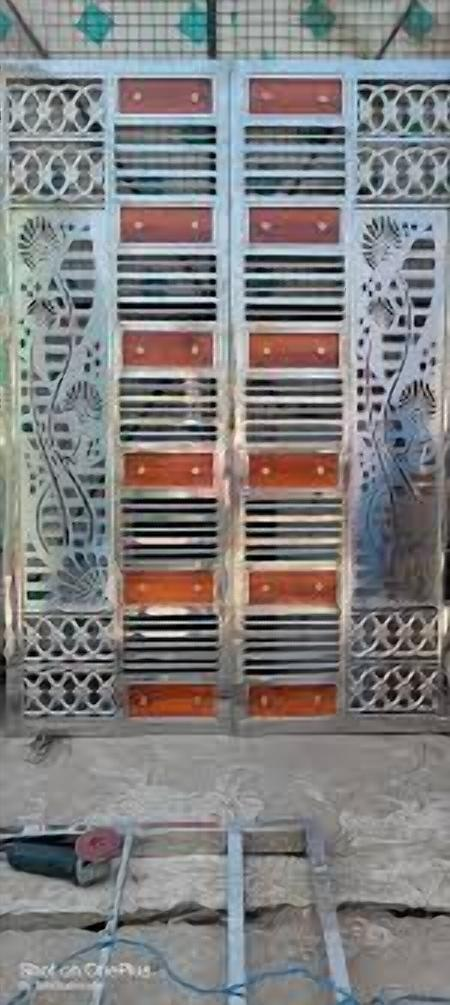Gate: (0, 58, 450, 732)
